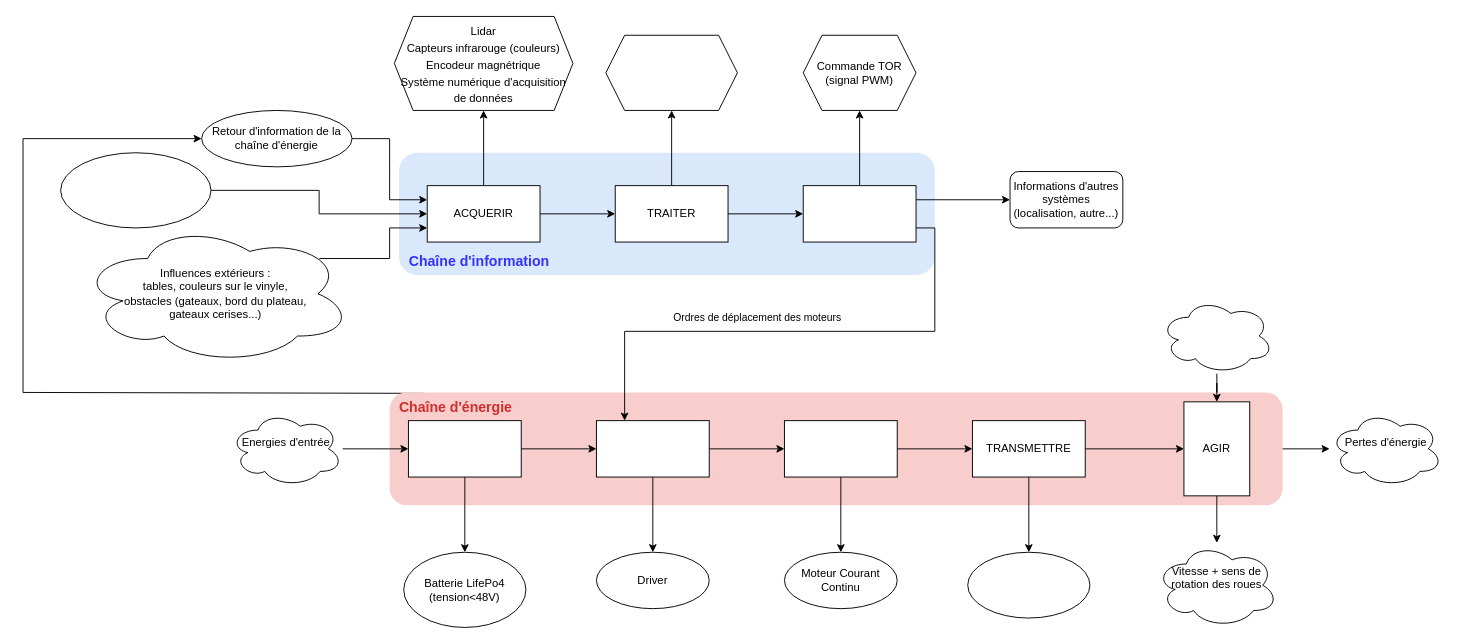
Image size: 1459x644. Some labels were removed from this diagram. The shapes that lost their labels are listed below. From the top down, each one's box as (x1, y1, x2, y2) in pixels, then its label:
(605, 34, 737, 110): Carte de traitement (STM32) Programmable en C
(60, 152, 211, 228): Information issues d'autres systèmes
(802, 185, 916, 242): COMMUNIQUER
(1159, 298, 1273, 374): Chassis + roues
(407, 420, 521, 477): ALIMENTER
(595, 420, 709, 477): DISTRIBUER
(783, 420, 897, 477): CONVERTIR
(967, 551, 1090, 618): Courroie, poulie
